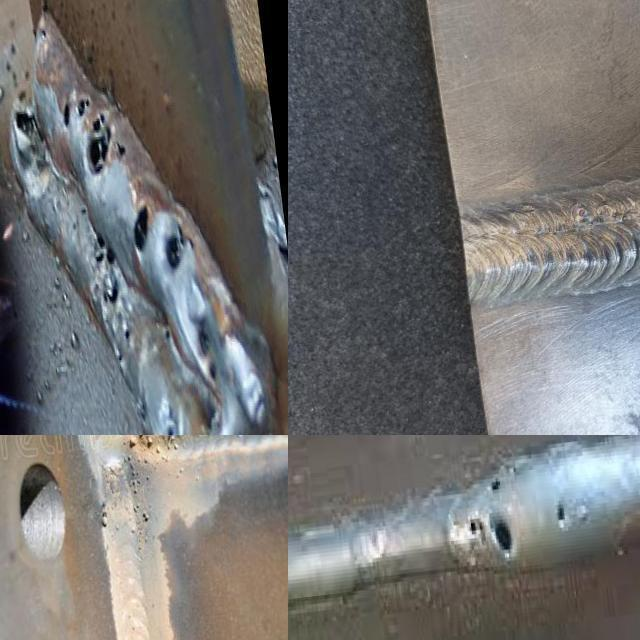defect: (56, 90, 132, 176), (124, 435, 189, 495), (11, 104, 49, 177), (467, 515, 517, 560), (163, 218, 194, 274), (131, 191, 153, 257), (92, 229, 117, 269), (484, 463, 506, 501), (550, 498, 570, 531), (101, 277, 120, 311), (98, 493, 111, 537), (195, 324, 210, 359), (131, 500, 152, 525), (596, 200, 614, 226), (572, 200, 589, 225), (138, 399, 148, 424), (208, 362, 218, 383), (39, 25, 47, 45), (79, 201, 89, 217), (164, 421, 175, 435), (72, 213, 80, 231), (164, 328, 172, 342), (124, 325, 130, 342), (118, 352, 122, 362)
